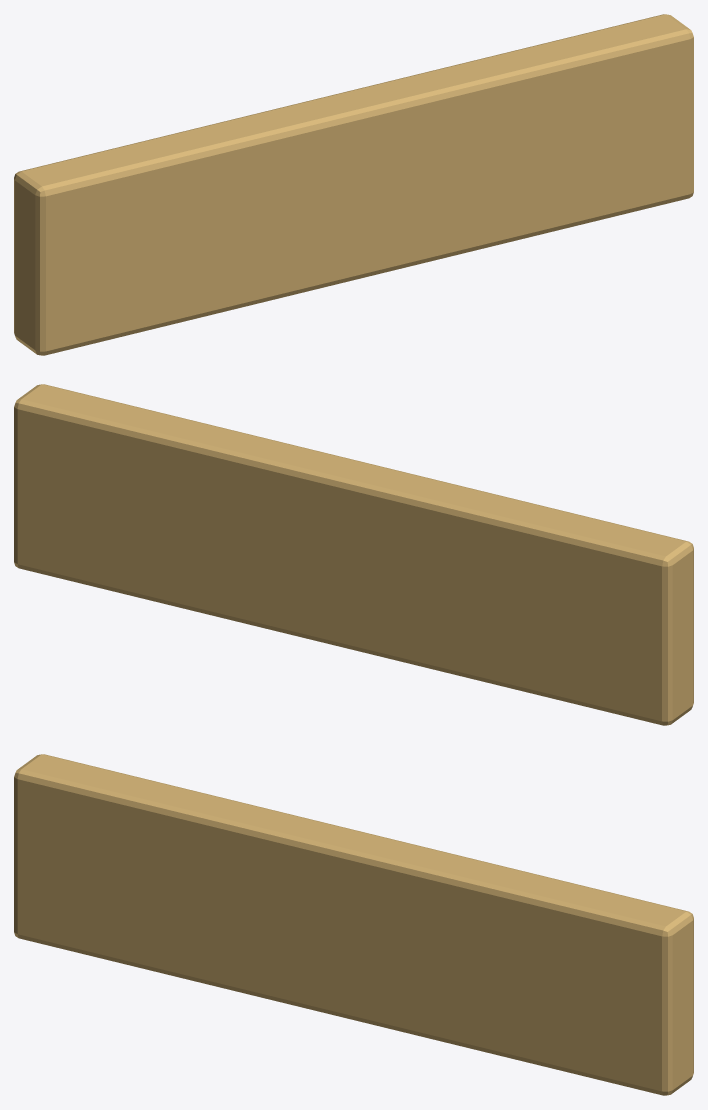
The model's file is wall_knee_2m__finish.glb.
3 views of the same model, one above another, from view 1: azimuth 30°, elevation 25°; view 2: azimuth 150°, elevation 25°; view 3: azimuth 330°, elevation 25° (orthographic).
Visible parts, largest first — view 1: wall_knee_2m__finish__mesh_00; view 2: wall_knee_2m__finish__mesh_00; view 3: wall_knee_2m__finish__mesh_00.
Part boxes in pixels (<box>): wall_knee_2m__finish__mesh_00: <box>14,14,693,355</box>; wall_knee_2m__finish__mesh_00: <box>14,384,693,725</box>; wall_knee_2m__finish__mesh_00: <box>14,754,693,1095</box>.
Size of the model in its own units: 1.75 by 0.43 by 0.13.
